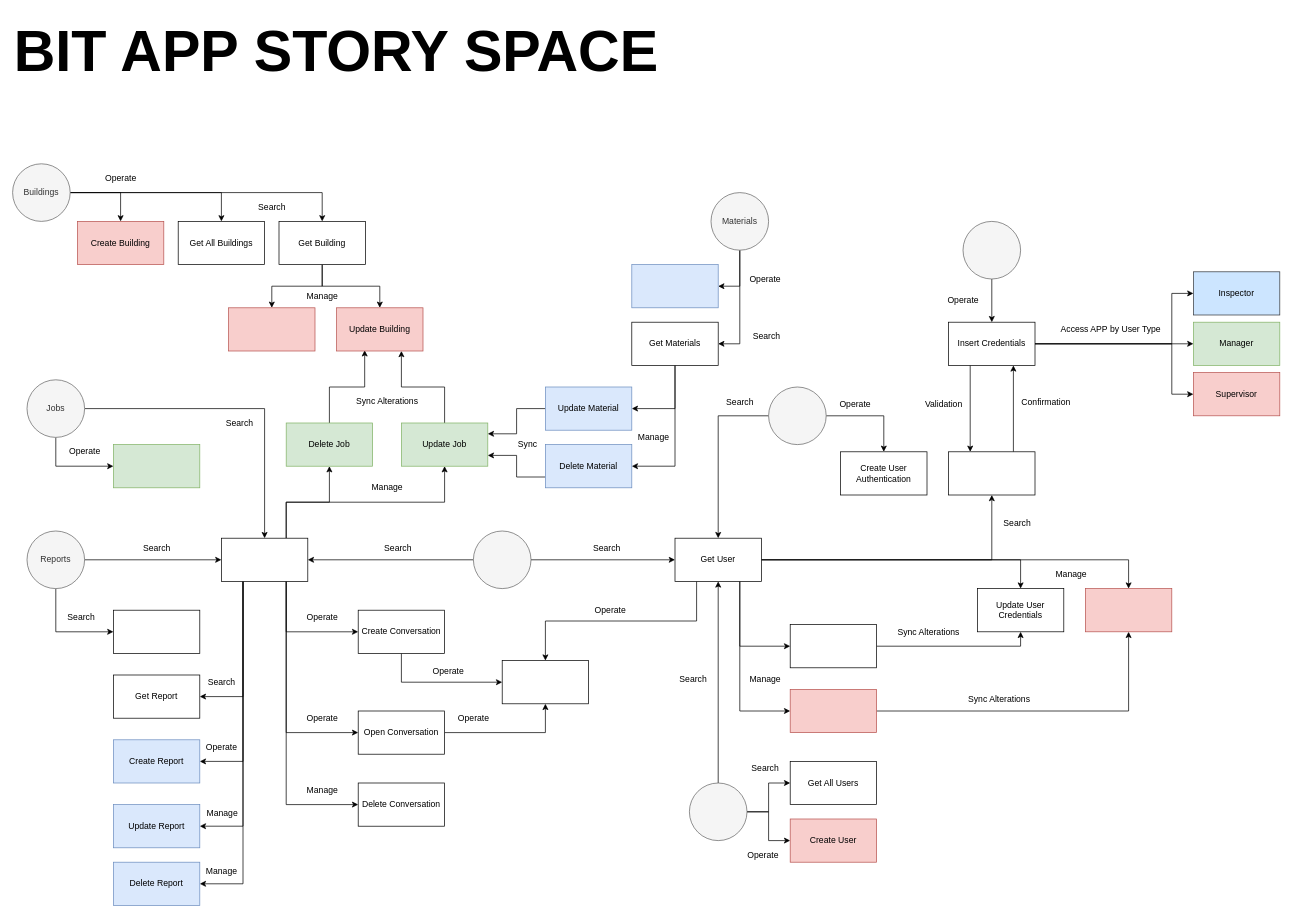
Some shapes in this 1292 by 918 pixel diagram are drawn without their labels. The centre of each missing label's shape, as x and y in pixels:
Authentication: point 797,415
Chat: point 502,559
Create Job: point 156,466
Create Material: point 674,286
Delete Building: point 271,329
Delete User: point 833,711
Delete User Authentication: point 1128,610
Get All Reports: point 156,631
Get Job: point 264,559
Get User Credentials: point 991,473
Login: point 991,250
Send Message: point 545,682
Update User: point 833,646
Users: point 718,811
